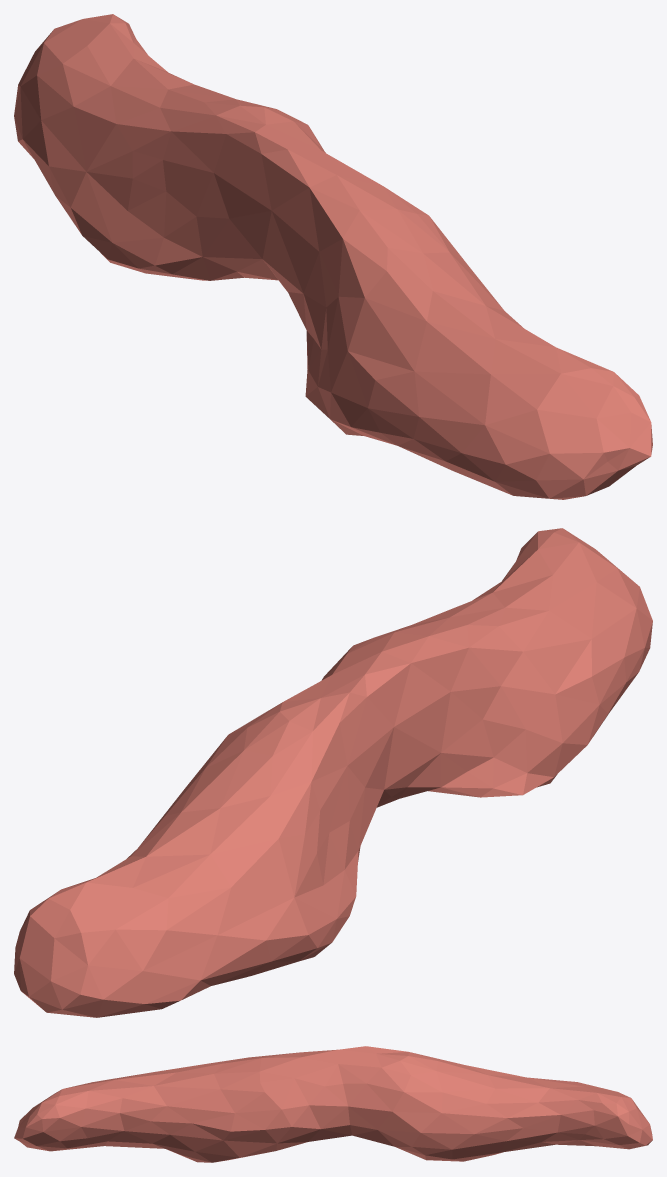
The picture shows the model from 3 angles, top to bottom: view 1: azimuth 30°, elevation 25°; view 2: azimuth 150°, elevation 25°; view 3: azimuth 270°, elevation 25°; orthographic projection. The views are drawn at different scales.
Parts seen in each view (by area): view 1: 63.obj; view 2: 63.obj; view 3: 63.obj.
Part boxes in pixels (<box>): 63.obj: <box>14,14,652,499</box>; 63.obj: <box>14,528,652,1017</box>; 63.obj: <box>14,1046,652,1162</box>.
Bounding box in the file's own units: 358 × 352 × 1915.
